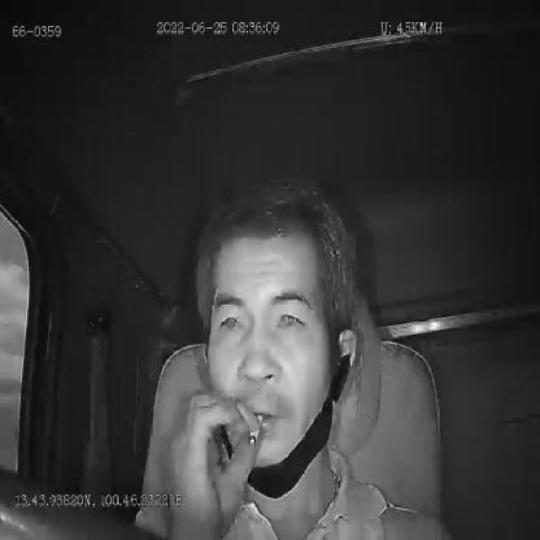smoking: (247, 414, 263, 447)
